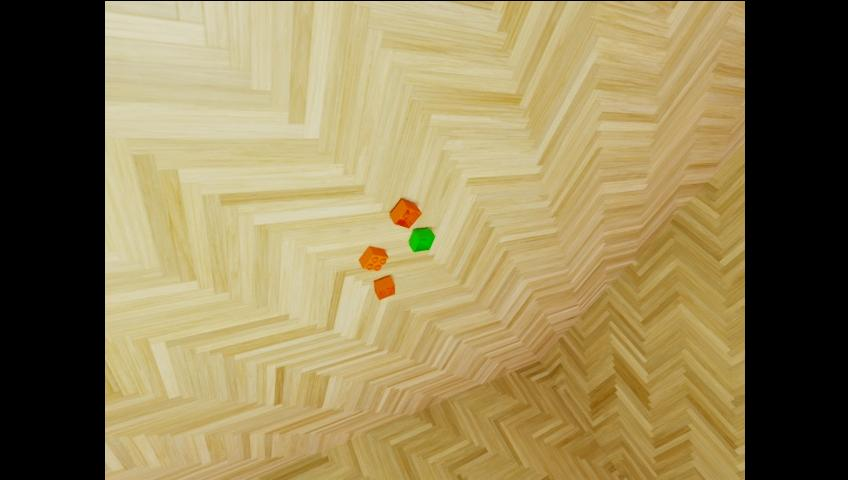2x2_green: (409, 228, 435, 253)
2x2_orange: (389, 199, 422, 229), (359, 246, 388, 271), (374, 276, 395, 301)
